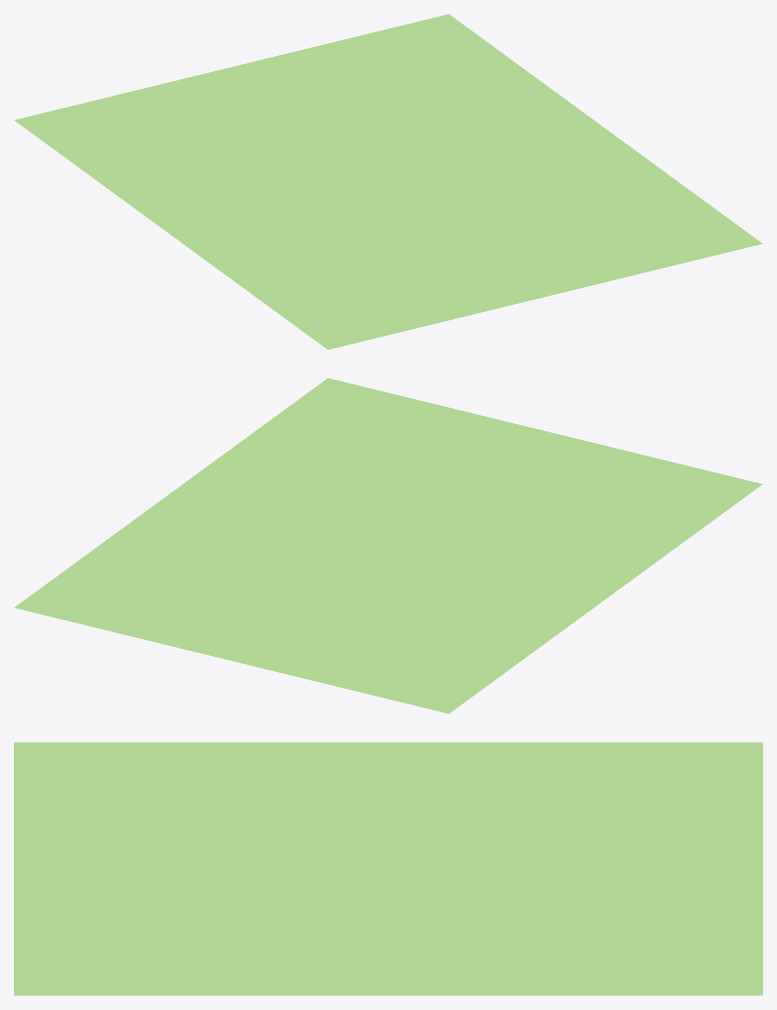
The model's file is field.fbx.
3 views of the same model, one above another, from view 1: azimuth 30°, elevation 25°; view 2: azimuth 150°, elevation 25°; view 3: azimuth 270°, elevation 25° (orthographic). The views are drawn at different scales.
Parts seen in each view (by area): view 1: field1; view 2: field1; view 3: field1.
Part boxes in pixels (bbox=[...]): field1: bbox=[14, 14, 762, 349]; field1: bbox=[14, 378, 762, 713]; field1: bbox=[14, 742, 762, 995].
Bounding box in the file's own units: 8 × 0 × 10.
Materials: 1 (1 with a texture image).
